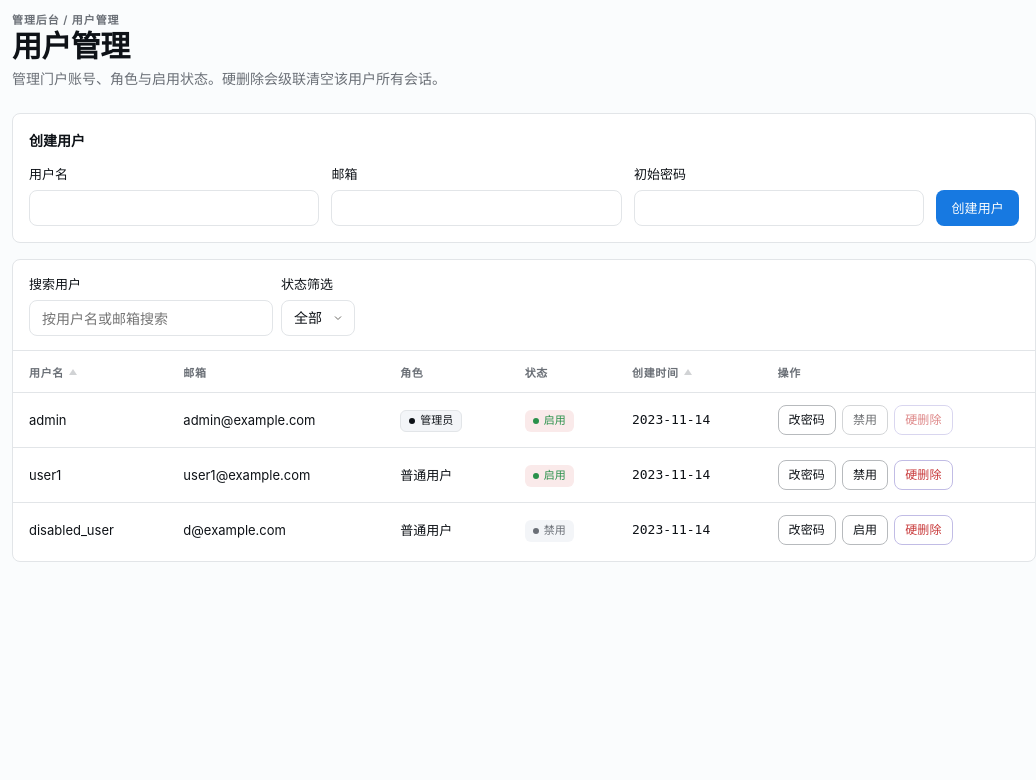
Test: UsersAdminPage › 禁用用户 — 点击"禁用"调 PATCH enabled=false(写 user_disable 审计)
The width and height of the screenshot is (1036, 780).
What coordinates should you click on to do the following:
click the button "禁用" in the row of "user1@example.com"
I would click on:
 (865, 475)
Its box is 842,460 -> 888,490.
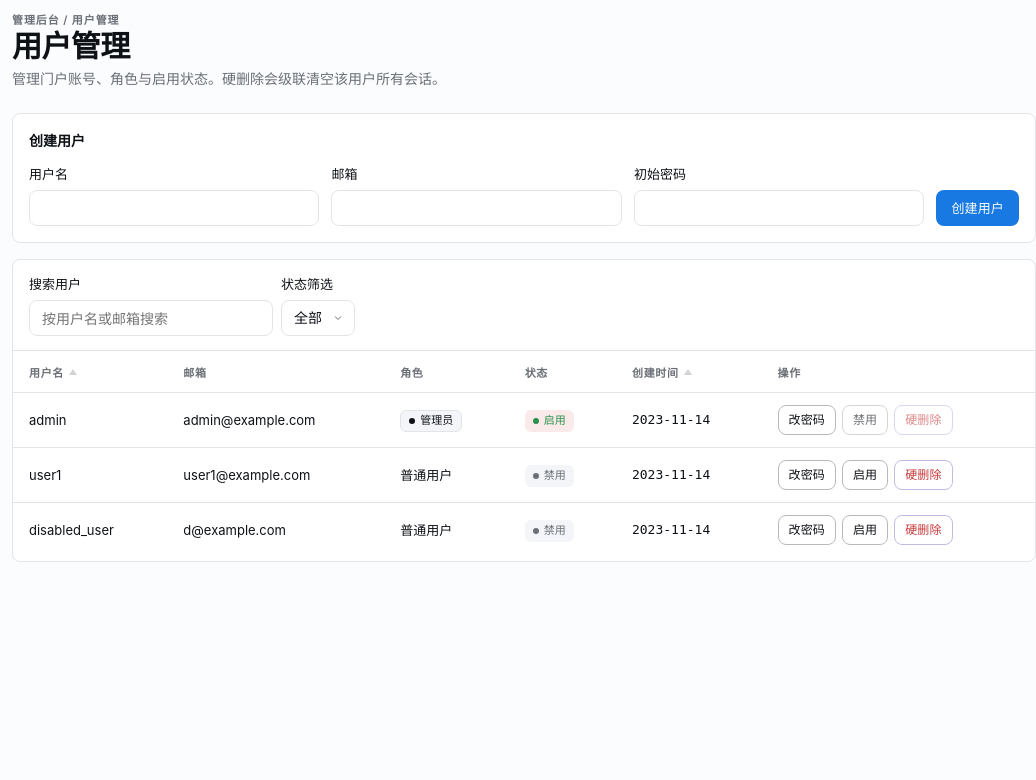
Result: the button "启用" in the row of "user1@example.com" is shown at 842,460 -> 888,490
